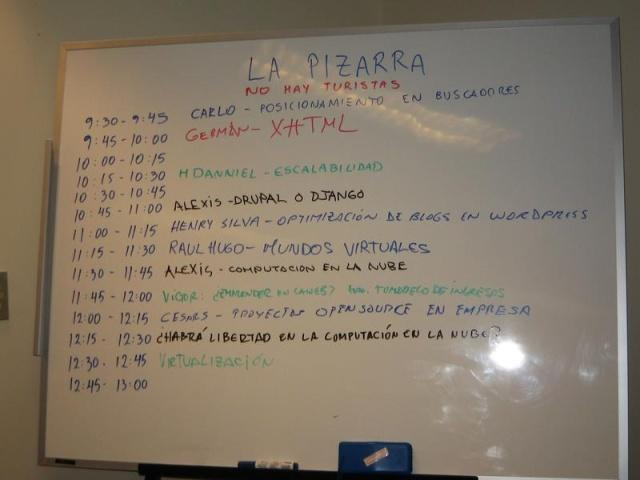Whiteboard: (31, 14, 629, 479)
